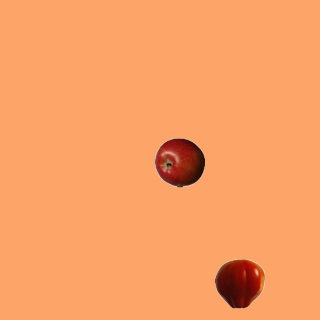Apple Braeburn: (154, 137, 204, 187)
Tomato 1: (214, 258, 264, 308)
